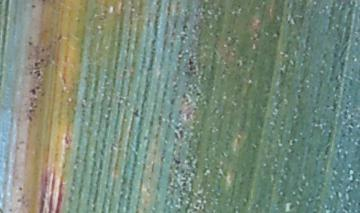tarspot: (187, 57, 196, 72), (131, 107, 141, 118), (173, 156, 183, 165), (29, 87, 37, 97), (275, 28, 281, 37), (27, 40, 34, 47), (29, 2, 36, 8)
